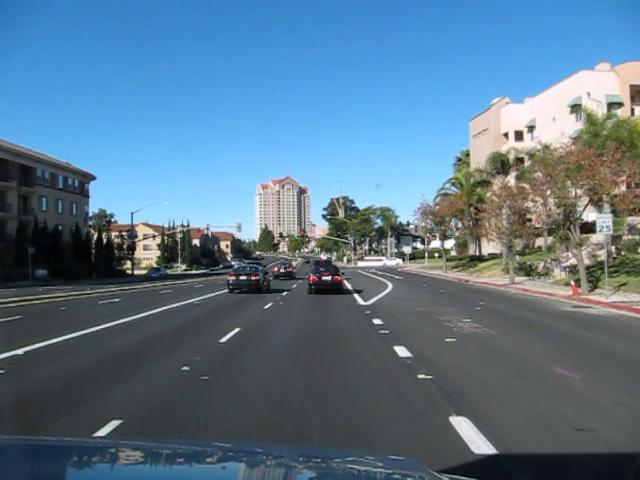speedLimit25: (595, 212, 613, 234)
